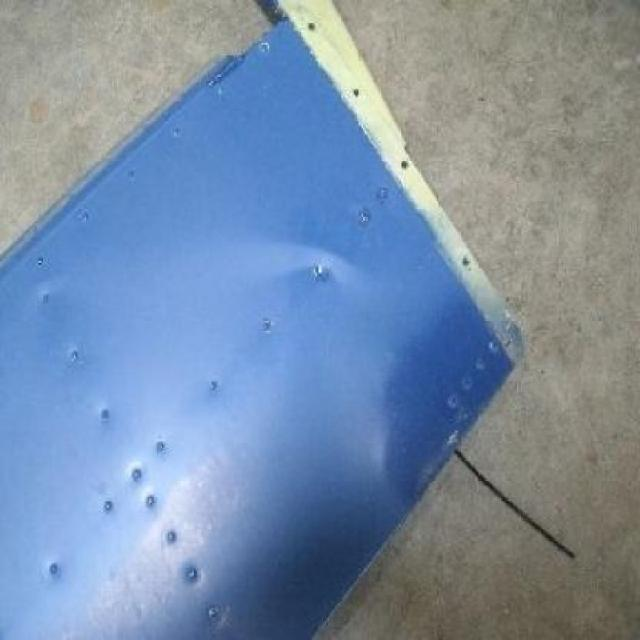dent: (237, 233, 365, 288), (372, 347, 405, 503)
